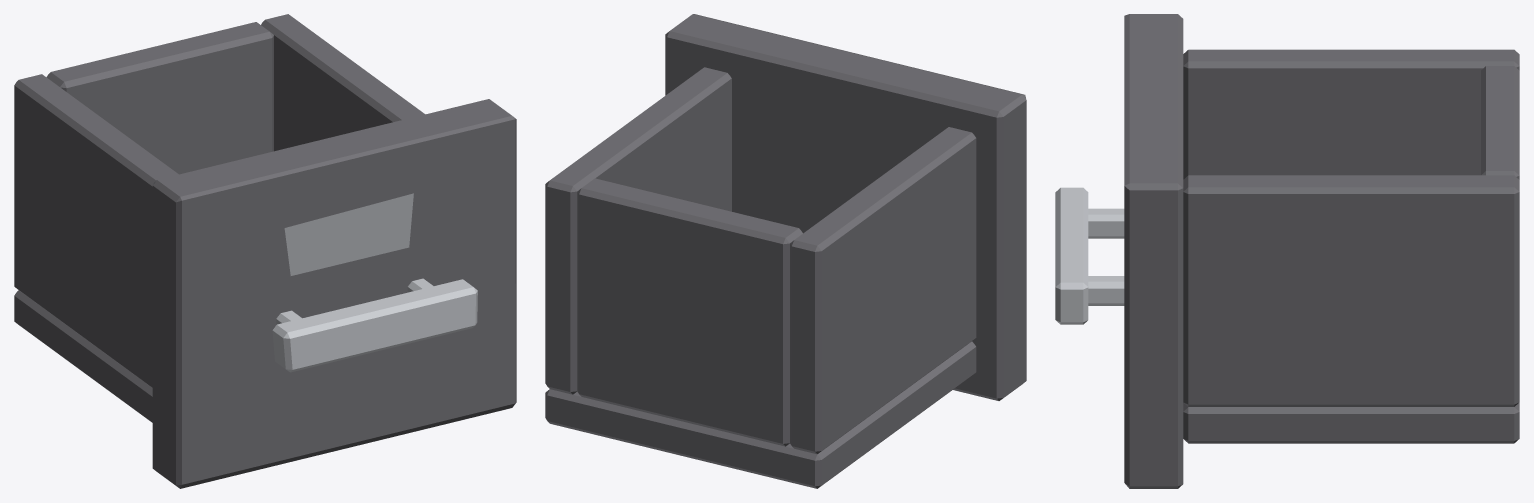
File: Shelving_4_box_9.fbx
3 views of the same model, side by side, from view 1: azimuth 30°, elevation 25°; view 2: azimuth 150°, elevation 25°; view 3: azimuth 270°, elevation 25° (orthographic). The views are drawn at different scales.
Visible parts, largest first — view 1: Shelving_4_box_9; view 2: Shelving_4_box_9; view 3: Shelving_4_box_9.
Boxes of the visible parts, x1,y1,x2,y2 form: Shelving_4_box_9: (14,14,516,488); Shelving_4_box_9: (545,14,1026,488); Shelving_4_box_9: (1055,14,1519,488).
Bounding box in the file's own units: 0.3336 × 0.2733 × 0.3762.
